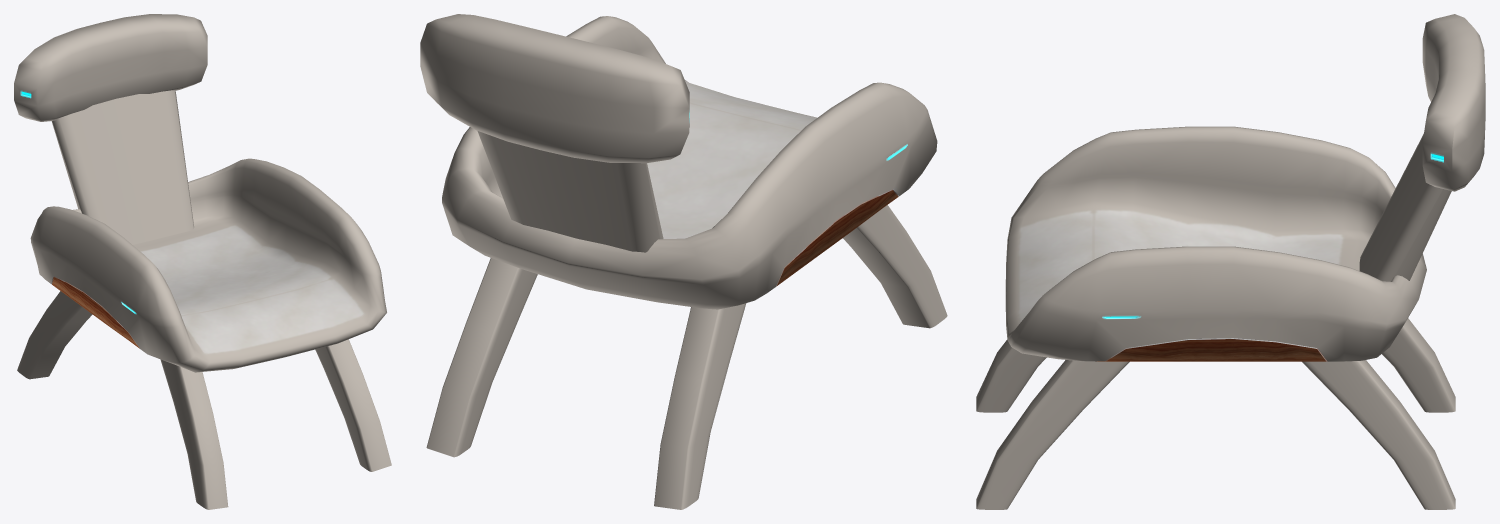
File: SILLA_CIS_MIDPOLY.fbx
3 renders of one model, left to right at view 1: azimuth 30°, elevation 25°; view 2: azimuth 150°, elevation 25°; view 3: azimuth 270°, elevation 25°, orthographic. The views are drawn at different scales.
Visible parts, largest first — view 1: SILLA_CIS_1_MID.001; view 2: SILLA_CIS_1_MID.001; view 3: SILLA_CIS_1_MID.001.
Part boxes in pixels (left/top/right/bottom): SILLA_CIS_1_MID.001: left=14, top=14, right=391, bottom=509; SILLA_CIS_1_MID.001: left=420, top=14, right=947, bottom=509; SILLA_CIS_1_MID.001: left=976, top=14, right=1485, bottom=509.
Bounding box in the file's own units: 46.5 × 61.68 × 70.98.
